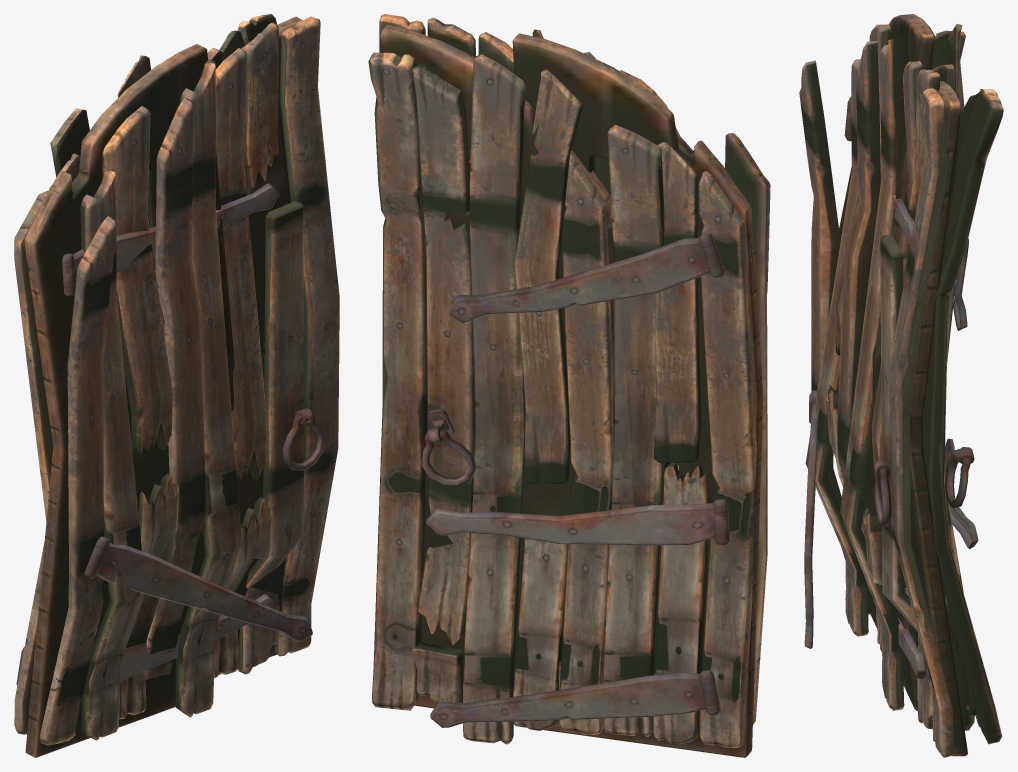
The picture shows the model from 3 angles, left to right: view 1: azimuth 30°, elevation 25°; view 2: azimuth 150°, elevation 25°; view 3: azimuth 270°, elevation 25°; orthographic projection. The views are drawn at different scales.
Visible parts, largest first — view 1: SM_Brynmoor_Castle_Doors_02_A_LOD0; view 2: SM_Brynmoor_Castle_Doors_02_A_LOD0; view 3: SM_Brynmoor_Castle_Doors_02_A_LOD0.
Part boxes in pixels (left/top/right/bottom): SM_Brynmoor_Castle_Doors_02_A_LOD0: left=14, top=14, right=339, bottom=757; SM_Brynmoor_Castle_Doors_02_A_LOD0: left=368, top=14, right=770, bottom=757; SM_Brynmoor_Castle_Doors_02_A_LOD0: left=799, top=14, right=1003, bottom=757.
Bounding box in the file's own units: 3.65 × 7.01 × 1.9.
Materials: 1 (1 with a texture image).
